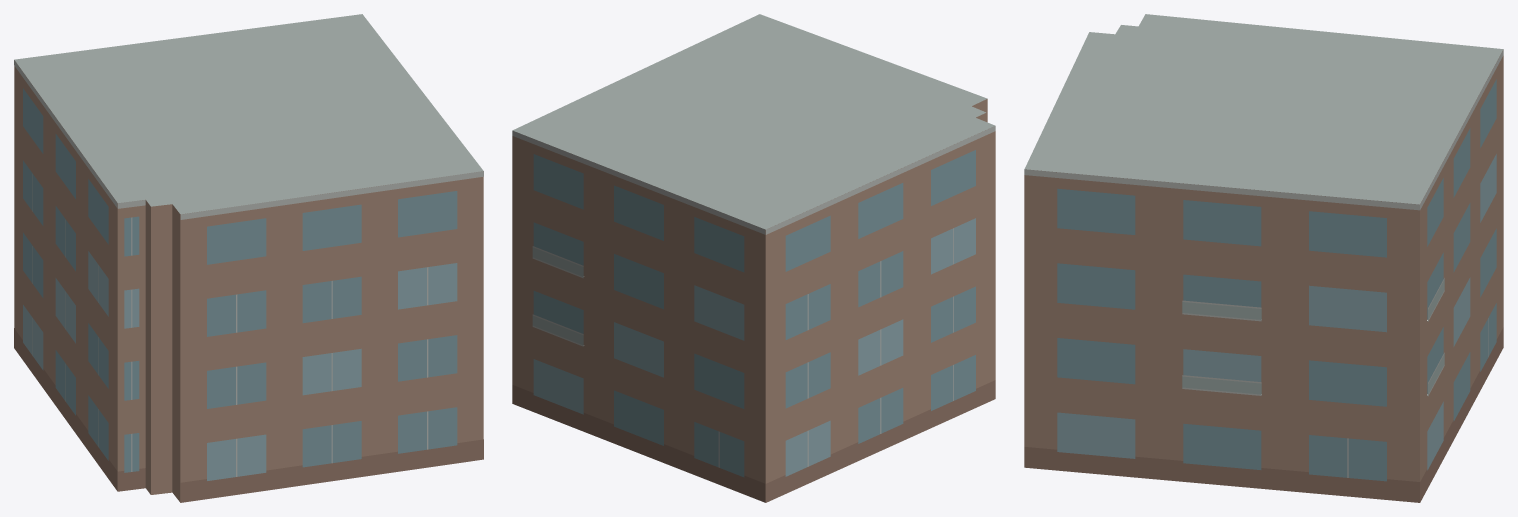
The model's file is survey-upis-32861478.glb.
The picture shows the model from 3 angles, left to right: view 1: azimuth 30°, elevation 25°; view 2: azimuth 150°, elevation 25°; view 3: azimuth 270°, elevation 25°; orthographic projection. The views are drawn at different scales.
Visible parts, largest first — view 1: survey-upis-32861478.tmp; view 2: survey-upis-32861478.tmp; view 3: survey-upis-32861478.tmp.
Boxes of the visible parts, <box> form: survey-upis-32861478.tmp: <box>14,14,483,502</box>; survey-upis-32861478.tmp: <box>512,14,995,502</box>; survey-upis-32861478.tmp: <box>1024,14,1503,502</box>.
Size of the model in its own units: 17.06 by 12.45 by 18.13.
